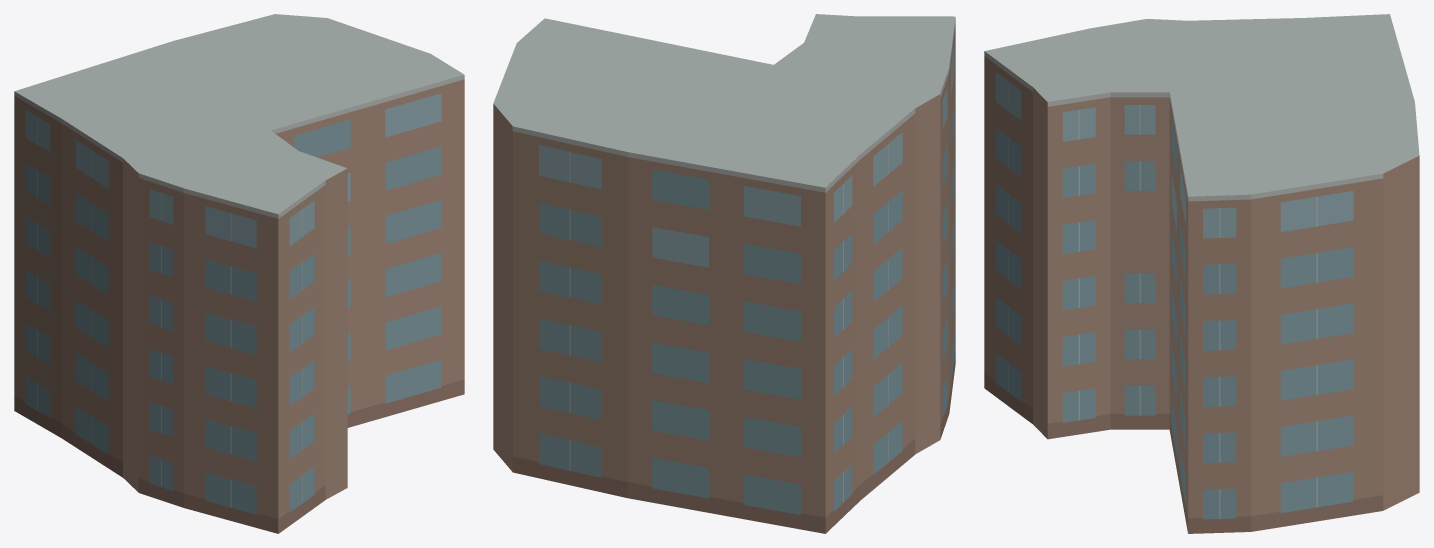
The model's file is survey-upis-32465114.glb.
3 renders of one model, left to right at view 1: azimuth 30°, elevation 25°; view 2: azimuth 150°, elevation 25°; view 3: azimuth 270°, elevation 25°, orthographic. The views are drawn at different scales.
Parts seen in each view (by area): view 1: survey-upis-32465114.tmp; view 2: survey-upis-32465114.tmp; view 3: survey-upis-32465114.tmp.
Part boxes in pixels (x1,y1,x2,y2): survey-upis-32465114.tmp: [14, 14, 464, 533]; survey-upis-32465114.tmp: [493, 14, 955, 533]; survey-upis-32465114.tmp: [984, 14, 1419, 533].
Bounding box in the file's own units: 20 × 17.2 × 20.12.
